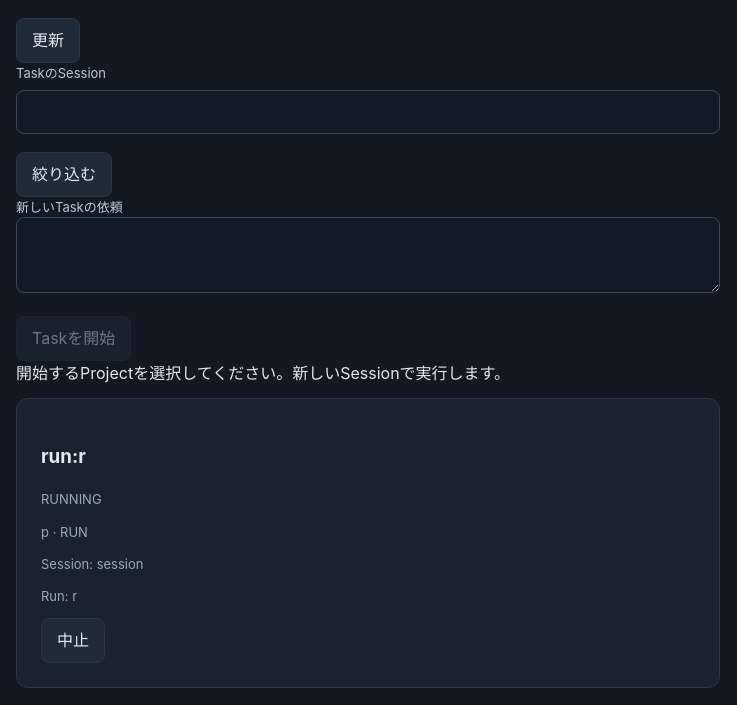
loads persisted server tasks and controls the selected owner and revision
(page scrolled)
Expected: the text "RUNNING" is shown, x1=41 y1=492 x2=102 y2=508
Click the button "中止". click: {"x": 73, "y": 640}
box: x1=41 y1=618 x2=105 y2=663
(page scrolled)
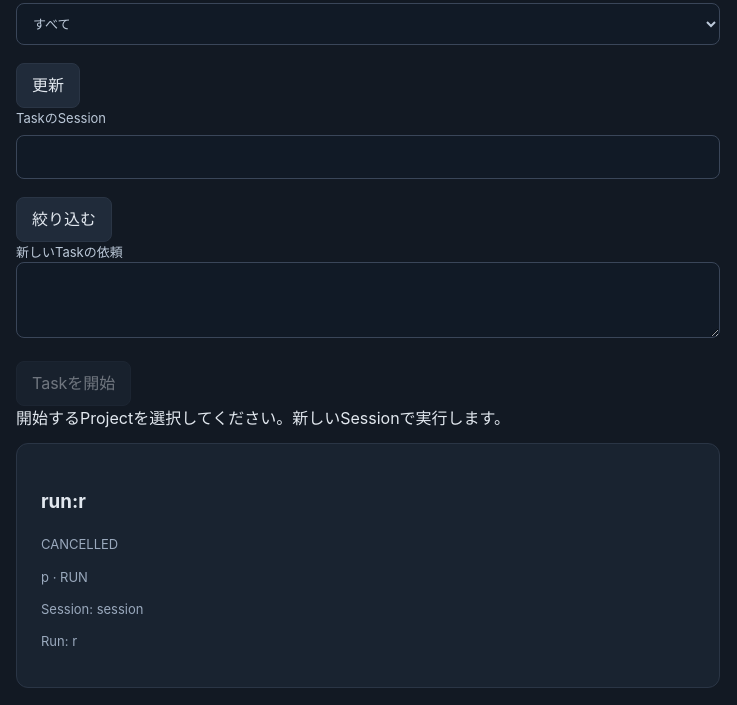
Expected: the text "CANCELLED" is shown, x1=41 y1=536 x2=118 y2=552
